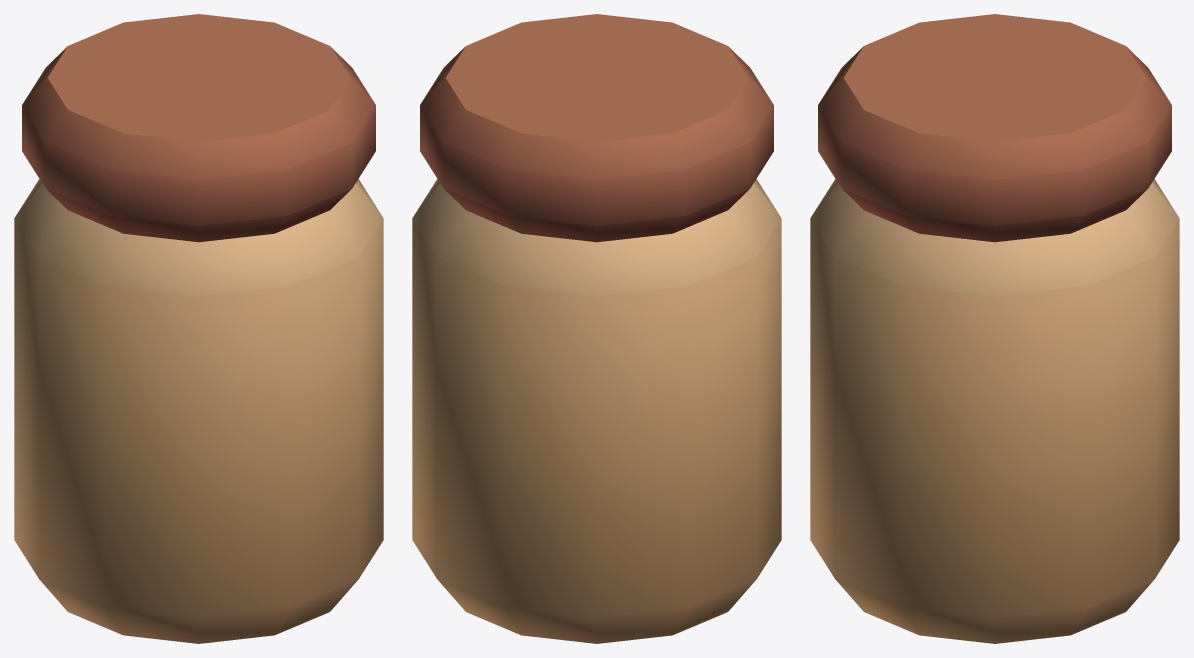
File: kay-pote-c.gltf
3 views of the same model, side by side, from view 1: azimuth 30°, elevation 25°; view 2: azimuth 150°, elevation 25°; view 3: azimuth 270°, elevation 25° (orthographic).
Visible parts, largest first — view 1: jar_C_large; view 2: jar_C_large; view 3: jar_C_large.
Boxes of the visible parts, bbox=[...] form: jar_C_large: bbox=[14, 14, 383, 643]; jar_C_large: bbox=[412, 14, 781, 643]; jar_C_large: bbox=[810, 14, 1179, 643].
Bounding box in the file's own units: 0.325 × 0.4875 × 0.325.
Materials: 1 (1 with a texture image).
